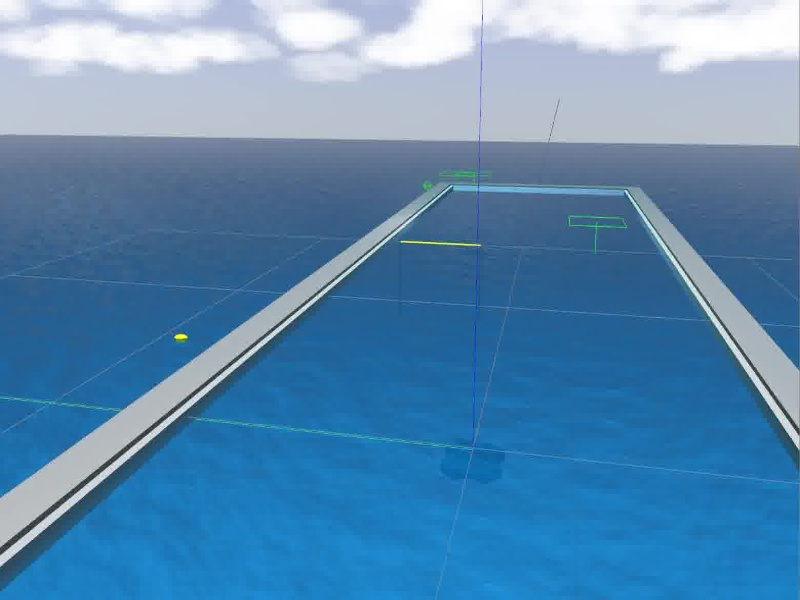gate: (398, 239, 482, 317)
